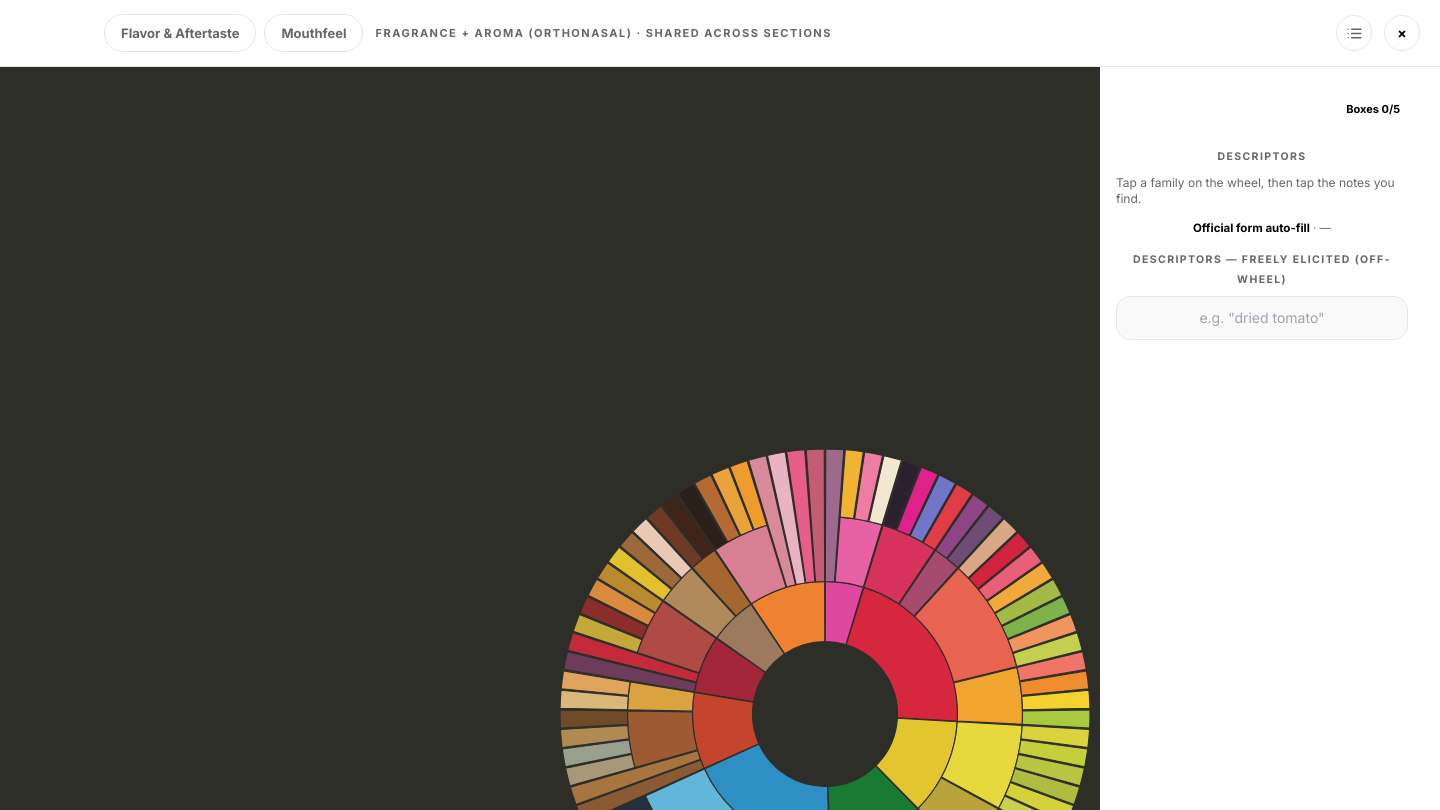
Scenario: DescribeOverlay — the official checklist (SCA-103 §8.2) › starts on the wheel and toggles to the form checklist
Click the button named "official checklist".
click(1354, 33)  # box [1336,15,1372,51]
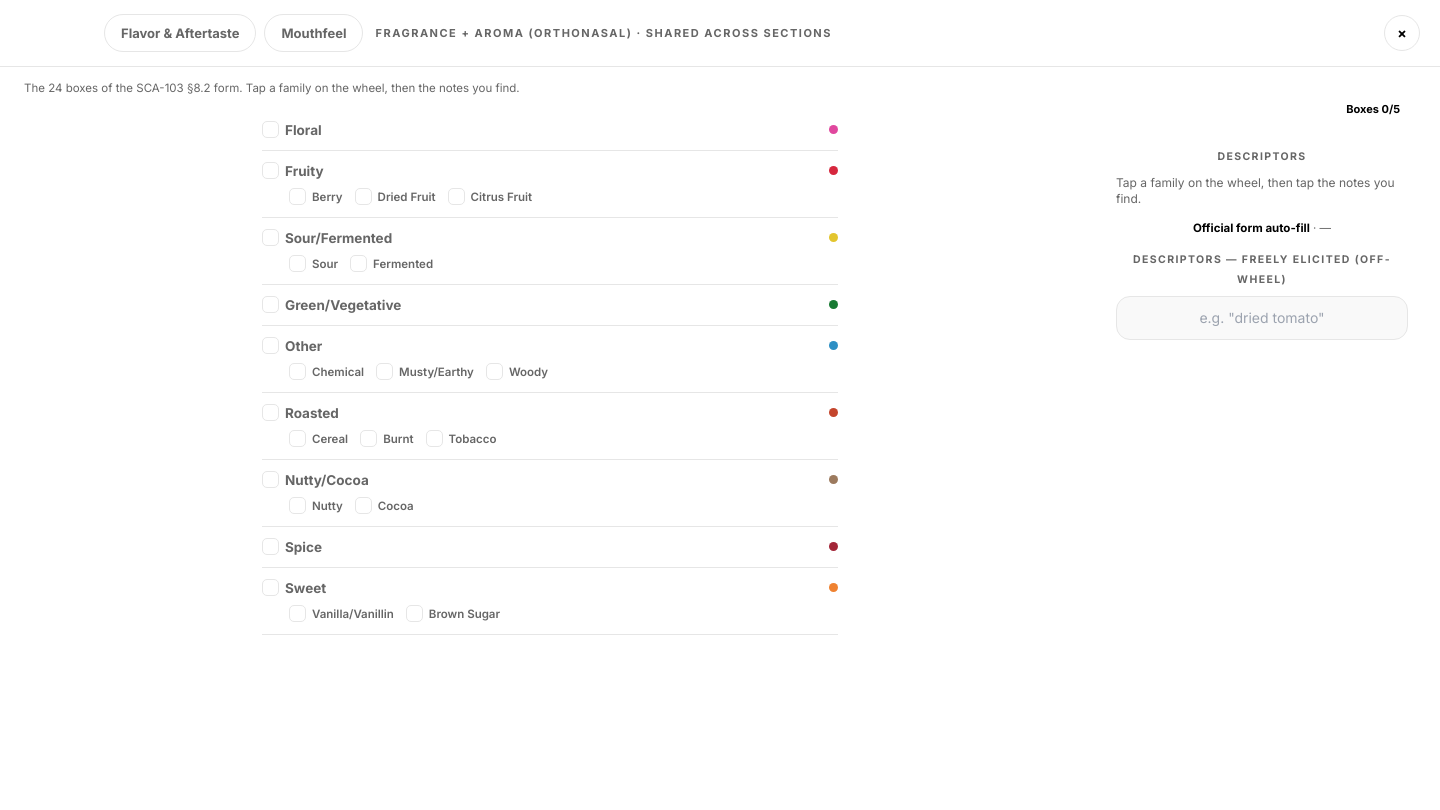
Check: the element with test id "flavor-wheel-stage" is gone
Check: the element with test id "form-checklist" is shown, box [24,81,838,635]
